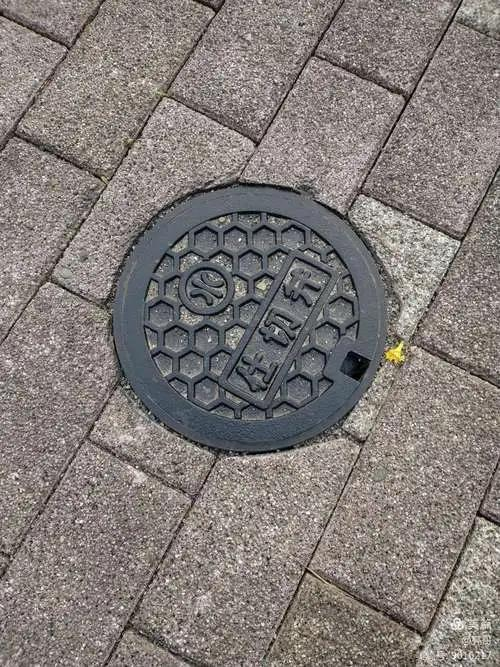wellcover: (95, 163, 431, 467)
